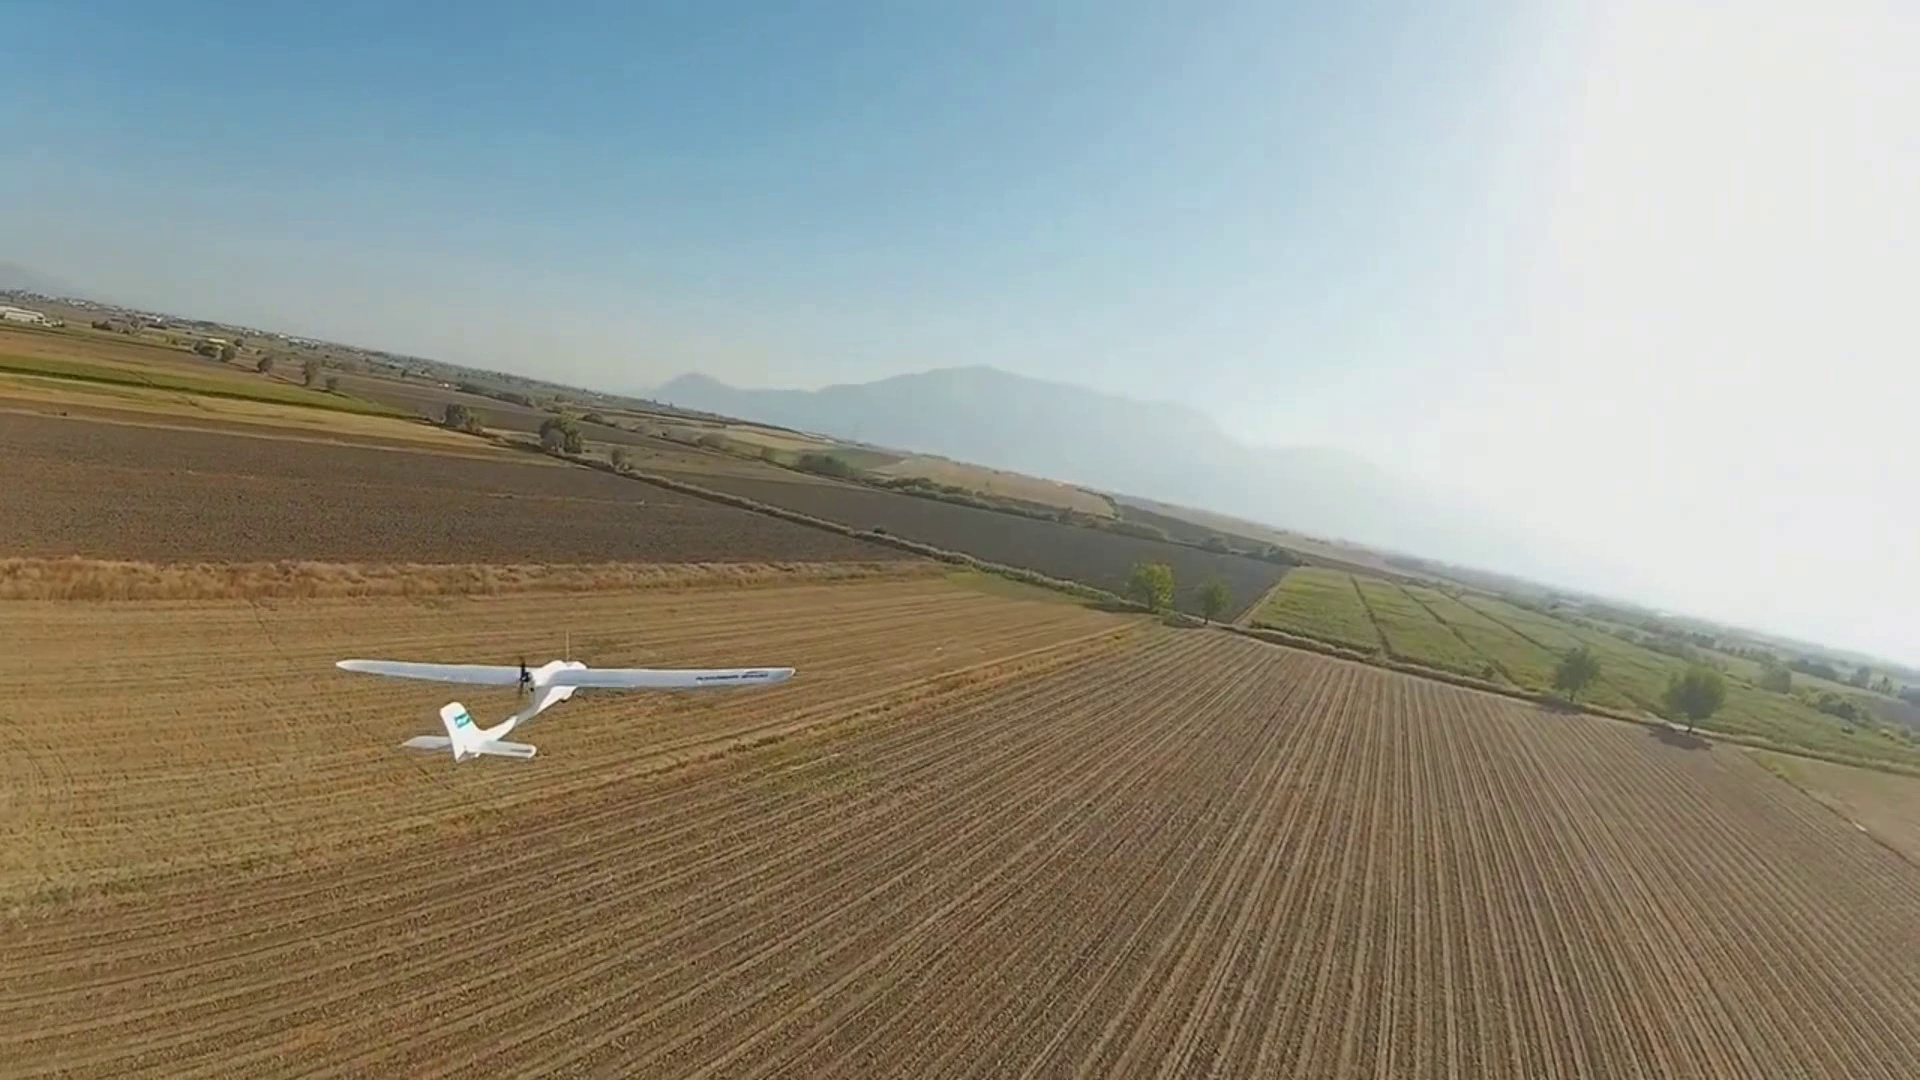airplane: (335, 646, 795, 760)
